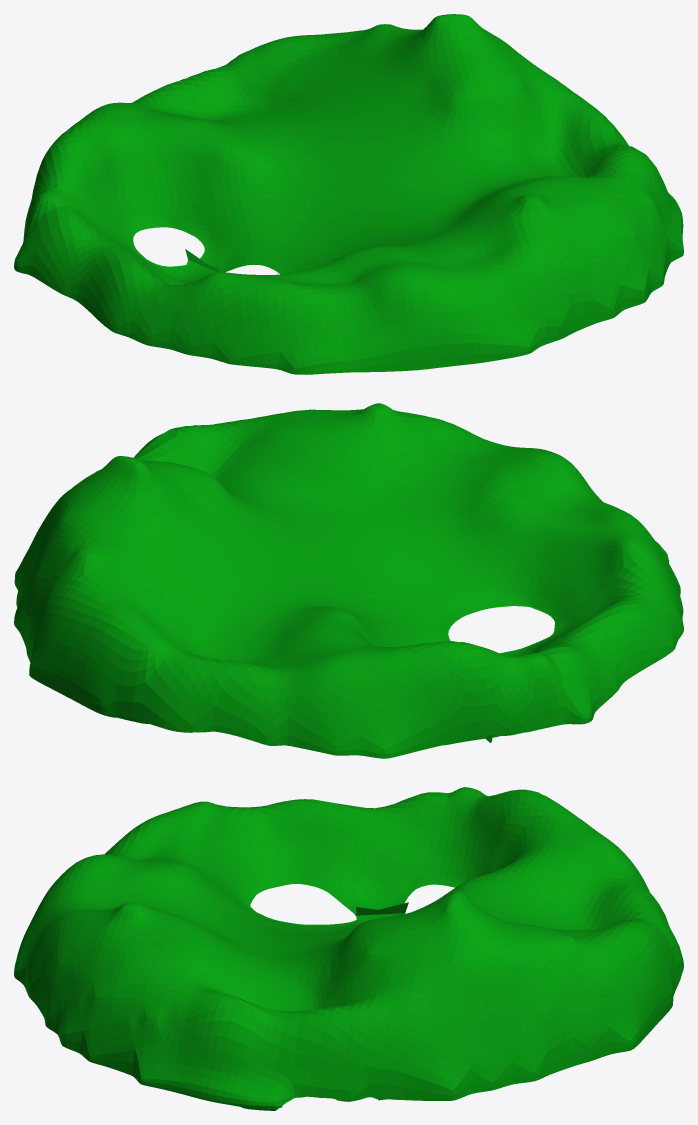
Rendered from home_island.glb.
The picture shows the model from 3 angles, top to bottom: view 1: azimuth 30°, elevation 25°; view 2: azimuth 150°, elevation 25°; view 3: azimuth 270°, elevation 25°; orthographic projection. The views are drawn at different scales.
Parts seen in each view (by area): view 1: home_island; view 2: home_island; view 3: home_island.
Part boxes in pixels (box(x1,y1,x2,y2)): home_island: box(14, 14, 683, 374); home_island: box(14, 403, 683, 758); home_island: box(14, 787, 683, 1110).
Size of the model in its own units: 114 by 31.29 by 115.
